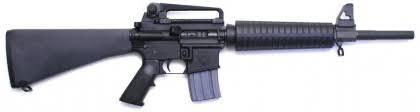rifle: (0, 3, 420, 112)
